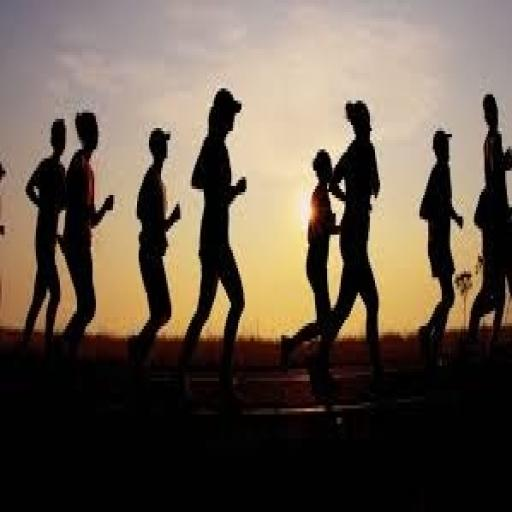running: (176, 82, 252, 408), (312, 95, 387, 390), (58, 106, 118, 356), (127, 122, 183, 372), (414, 122, 468, 366), (19, 113, 72, 350), (466, 88, 510, 350)
